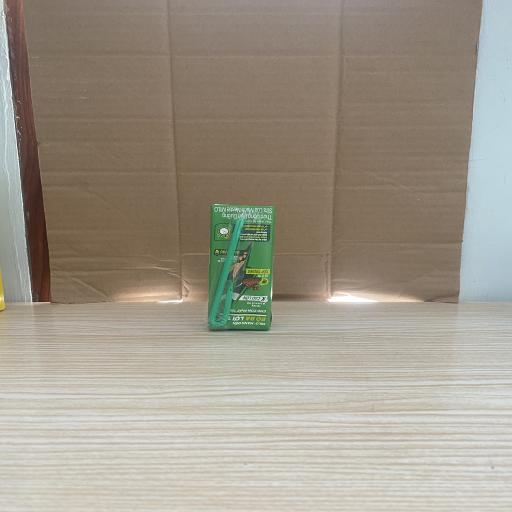milo: (207, 204, 275, 331)
